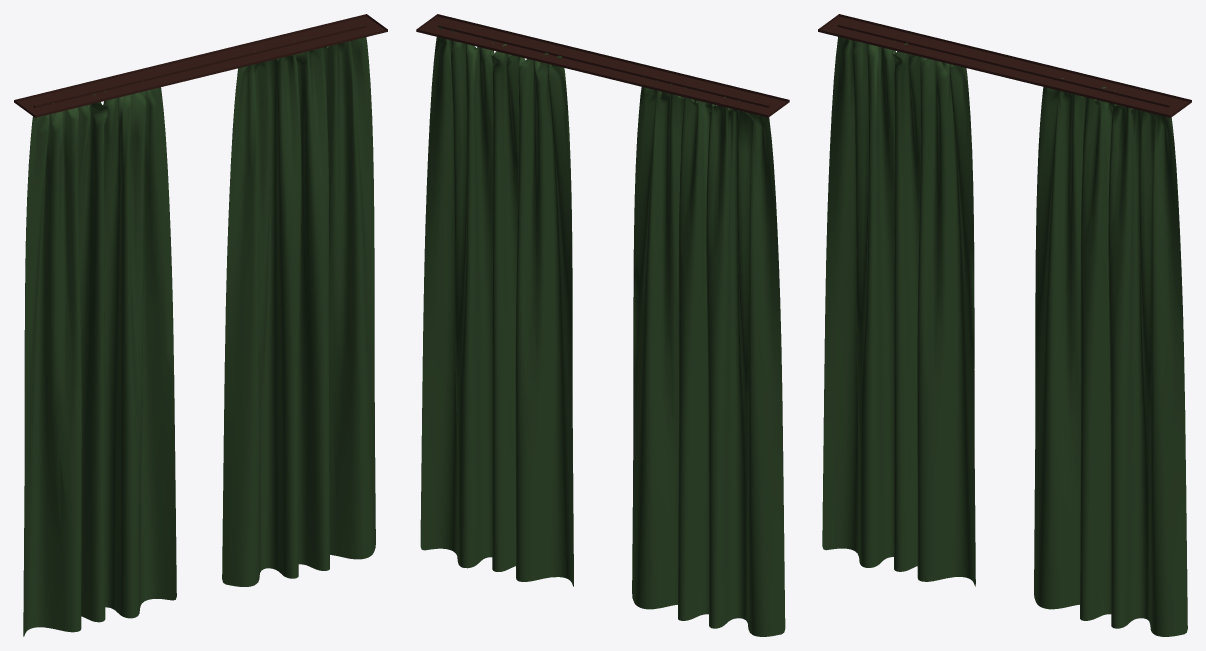
File: Curtains.fbx
3 views of the same model, side by side, from view 1: azimuth 30°, elevation 25°; view 2: azimuth 150°, elevation 25°; view 3: azimuth 330°, elevation 25° (orthographic).
Visible parts, largest first — view 1: Curtains; view 2: Curtains; view 3: Curtains.
Boxes of the visible parts, <box> form: Curtains: <box>14,14,387,636</box>; Curtains: <box>416,14,789,636</box>; Curtains: <box>818,14,1191,636</box>.
Bounding box in the file's own units: 218 × 307 × 22.25.
